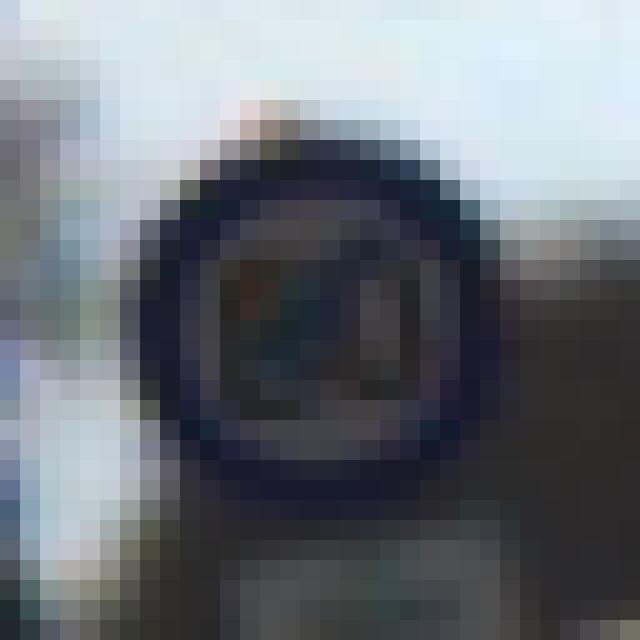SPEED-LIMIT-80: (125, 119, 501, 487)
